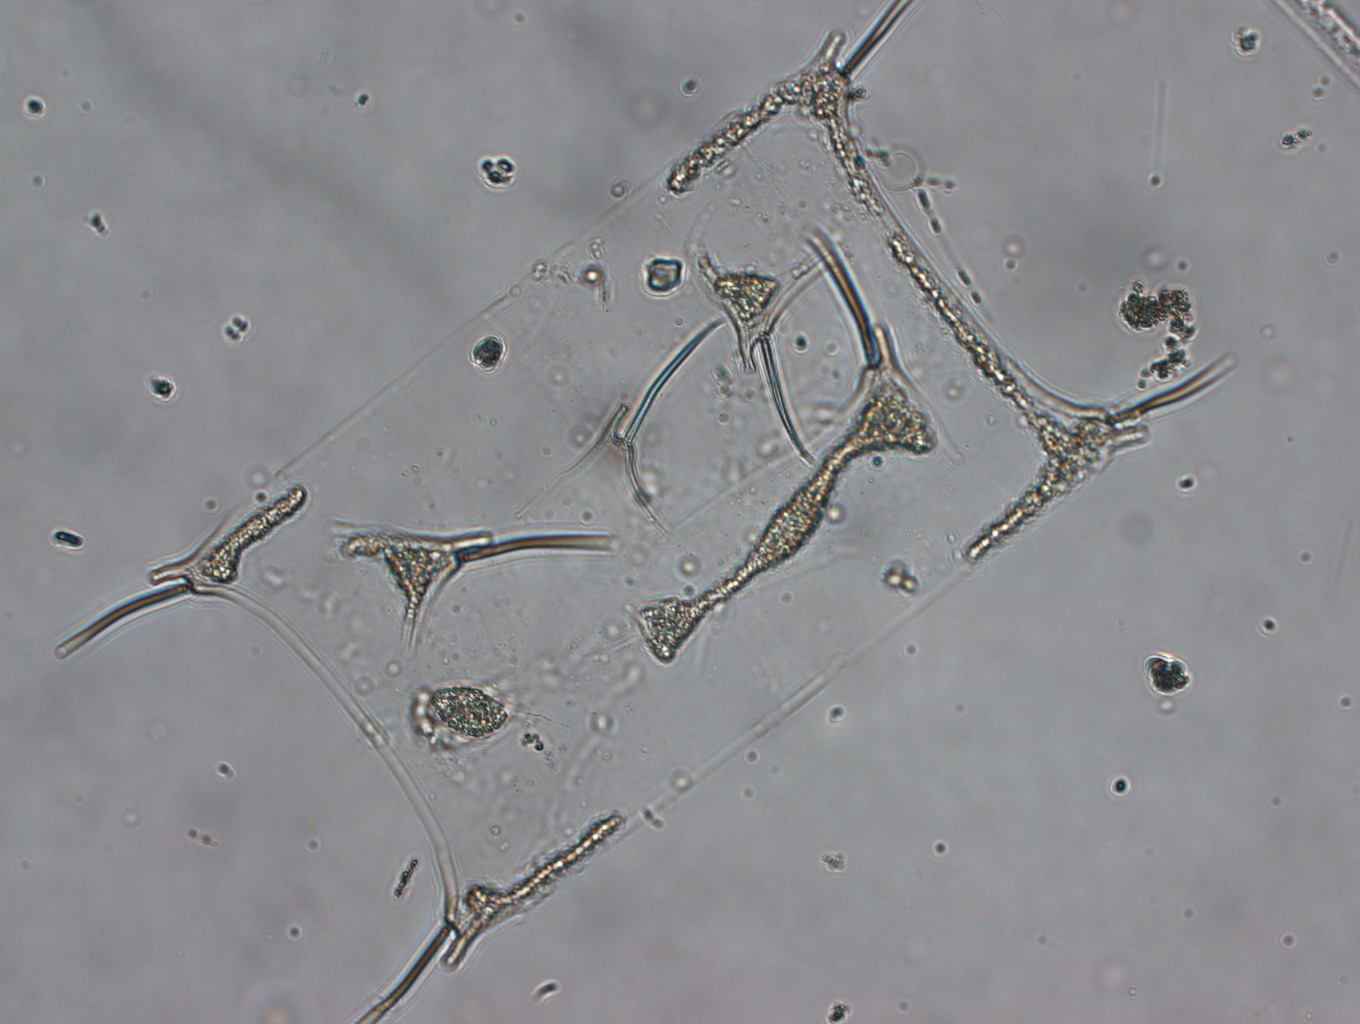biddulphia: (45, 1, 1243, 1024)
